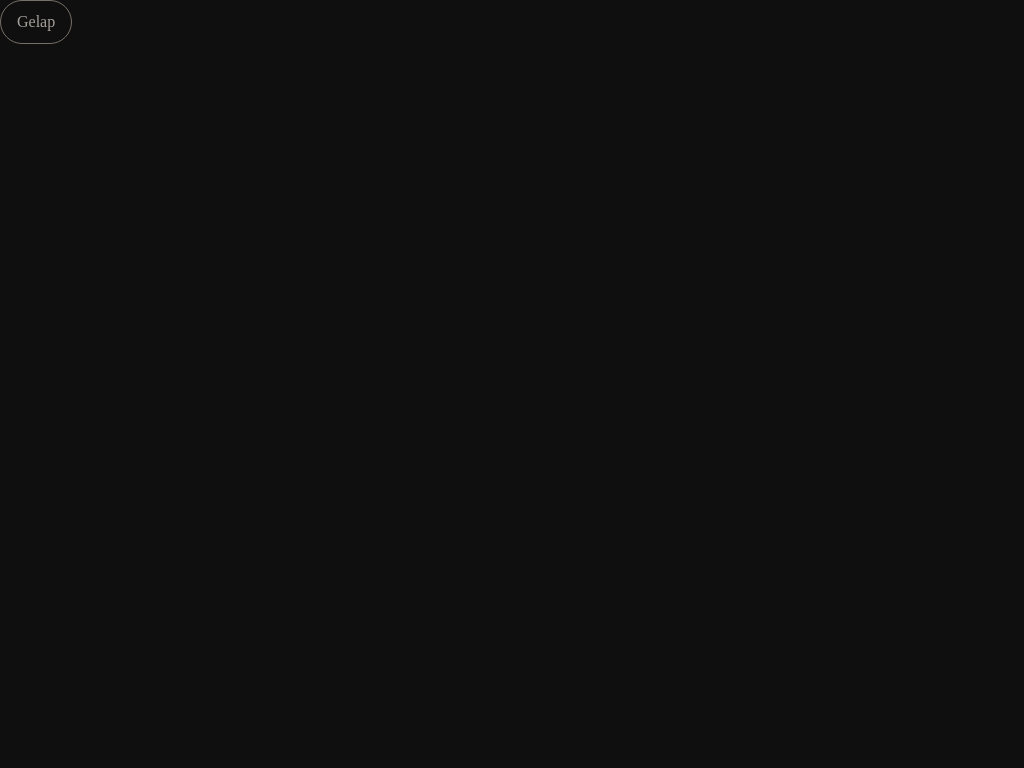
Test: theme toggle › aria-pressed reflects the current theme state
The width and height of the screenshot is (1024, 768).
Step 1. Click the button with aria-label "tema" → [36, 22], box left=0, top=0, right=72, bottom=44
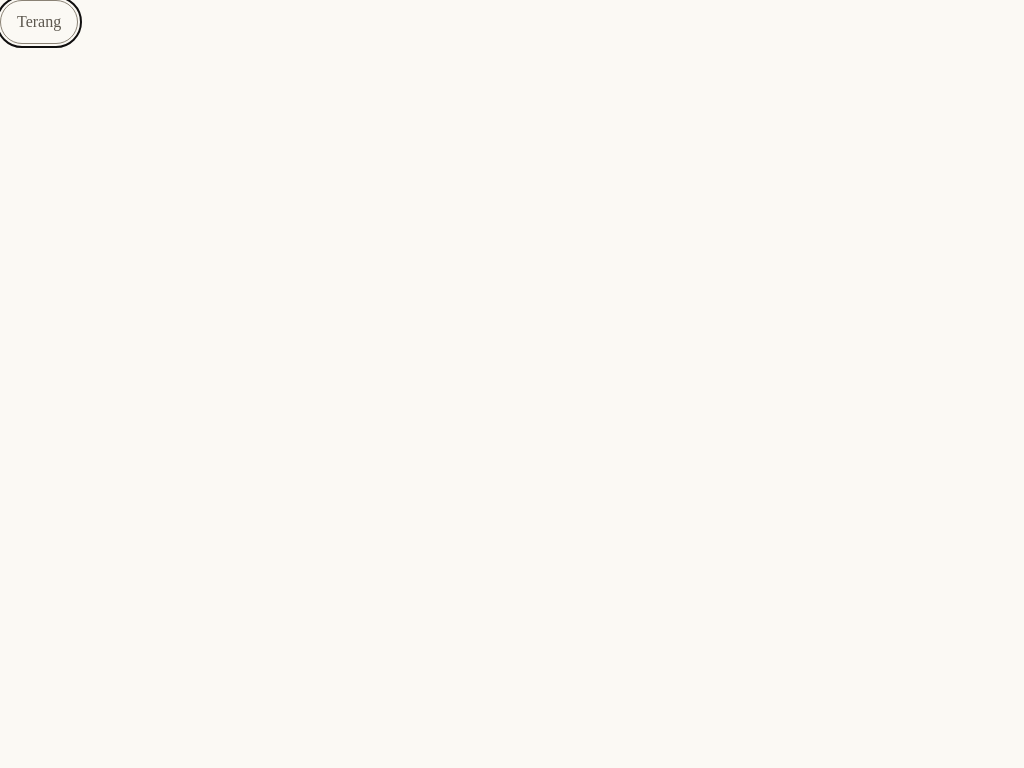
Check: the button with aria-label "tema" is not pressed, box left=0, top=0, right=78, bottom=44
